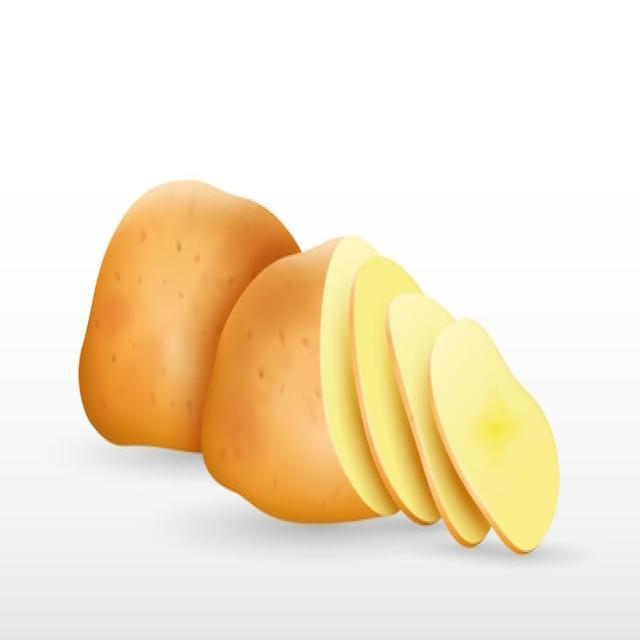Potato: (200, 224, 565, 571), (77, 160, 304, 472)
